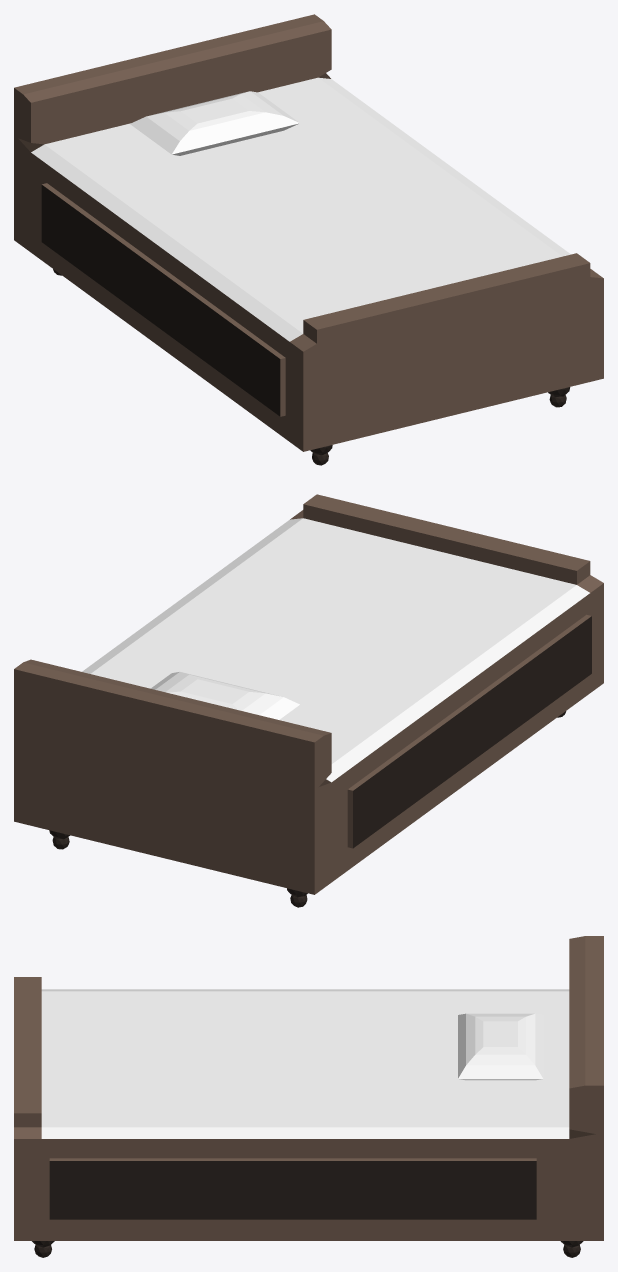
File: Bed-D1gKw6Qw.glb
The picture shows the model from 3 angles, top to bottom: view 1: azimuth 30°, elevation 25°; view 2: azimuth 150°, elevation 25°; view 3: azimuth 270°, elevation 25°; orthographic projection.
Parts seen in each view (by area): view 1: Cube; view 2: Cube; view 3: Cube.
Boxes of the visible parts, box(x1,y1,x2,y2) form: Cube: box(14, 14, 603, 465); Cube: box(14, 494, 603, 907); Cube: box(14, 936, 603, 1257).
Bounding box in the file's own units: 6.22 × 3.5 × 10.
